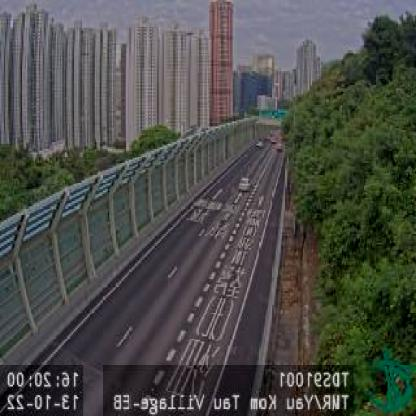Car: (239, 176, 252, 193)
